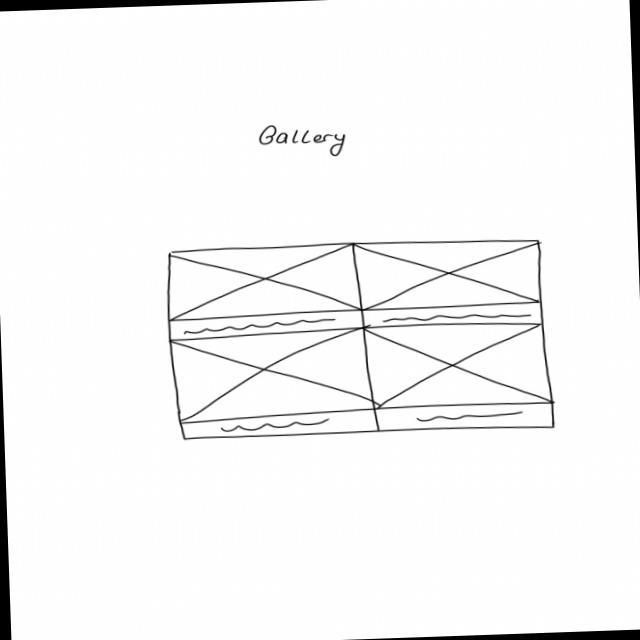container: (178, 407, 380, 441), (164, 308, 366, 342), (373, 399, 557, 436), (359, 300, 546, 330)
image: (166, 326, 374, 422), (364, 318, 553, 411), (163, 240, 364, 318), (348, 236, 546, 312)
label: (254, 120, 348, 160)
text: (180, 317, 340, 335), (378, 310, 533, 324), (218, 416, 329, 434), (414, 408, 530, 424)
